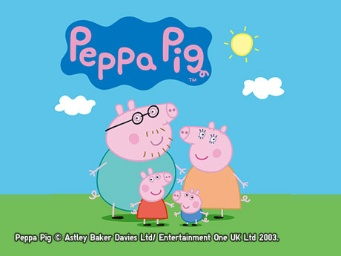Peppa: (131, 168, 174, 228)
